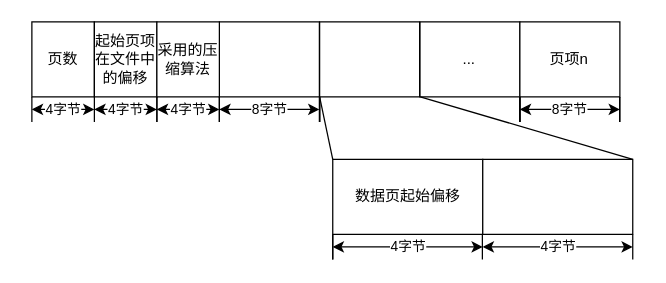
Image size: 666x283. Some labels were removed from this diagram. The box of each missing label's shape, as (x1, y1, x2, y2) in pixels:
数据页尾部偏移（数据页起始偏移+数据呀压缩后长度）: (482, 158, 633, 234)
页项0: (218, 21, 319, 97)
页项1: (318, 21, 420, 97)
